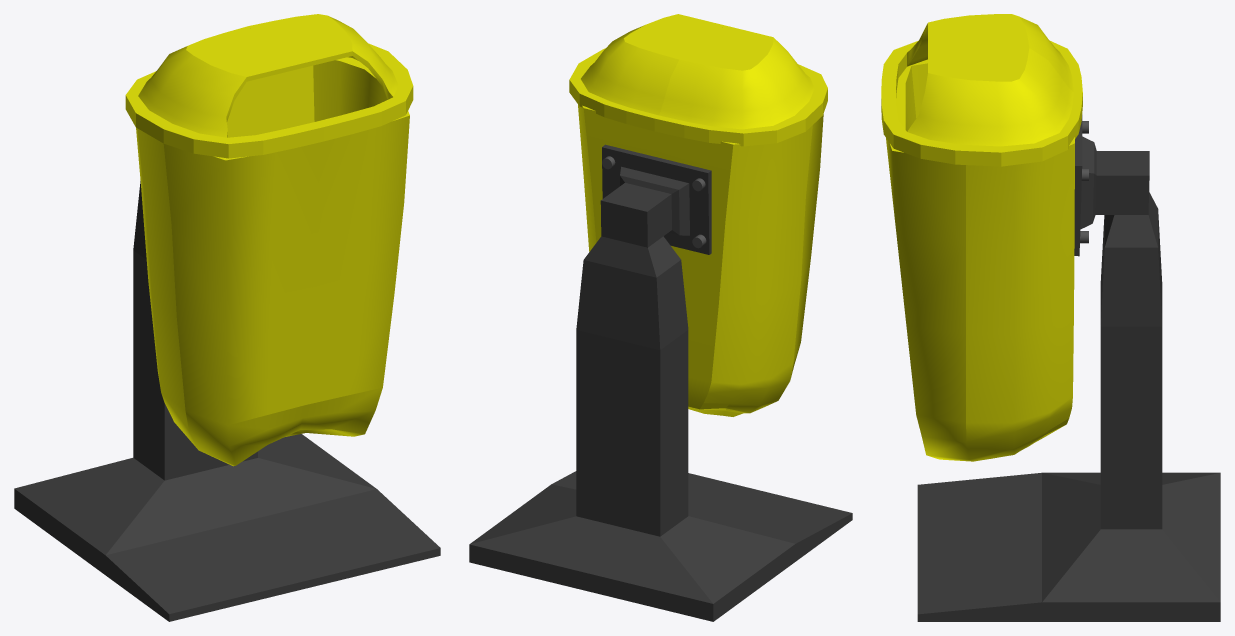
The model's file is yellowbin.fbx.
The picture shows the model from 3 angles, left to right: view 1: azimuth 30°, elevation 25°; view 2: azimuth 150°, elevation 25°; view 3: azimuth 270°, elevation 25°; orthographic projection. The views are drawn at different scales.
Parts seen in each view (by area): view 1: polySurface4, pCube24, pCube25; view 2: pCube24, polySurface4, pCube25; view 3: pCube24, polySurface4, pCube25.
Part boxes in pixels (x1,y1,x2,y2): polySurface4: (136, 57, 409, 466); pCube24: (14, 181, 440, 621); pCube25: (125, 14, 413, 158); pCube24: (469, 144, 852, 621); polySurface4: (578, 104, 823, 416); pCube25: (569, 14, 827, 146); pCube24: (917, 115, 1220, 621); polySurface4: (886, 59, 1074, 461); pCube25: (881, 14, 1082, 166).
Size of the model in its own units: 3.08 by 5.65 by 3.41.
